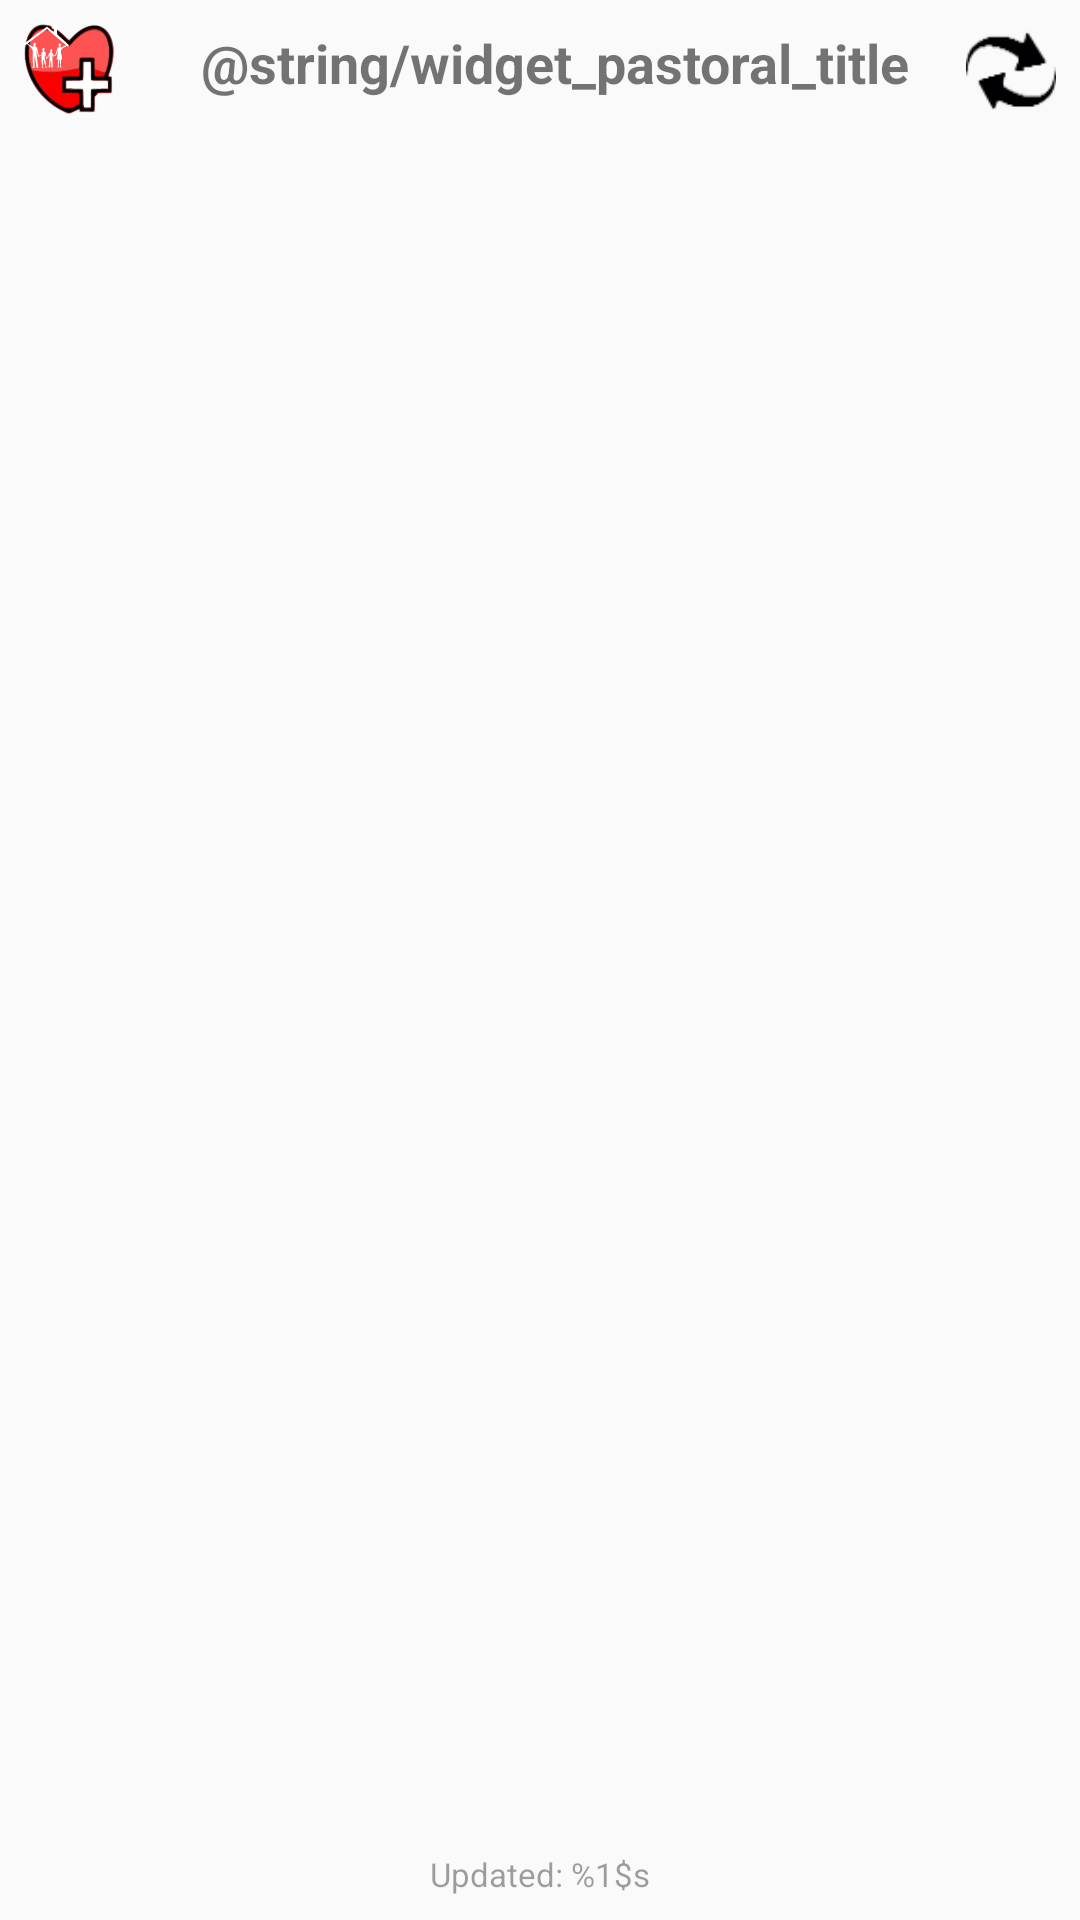

Named icons in this screenshot (1080*1920) and their bounding boxes, bbox=(x1, y1, x2, y2):
updatew: bbox=(966, 33, 1056, 109)
